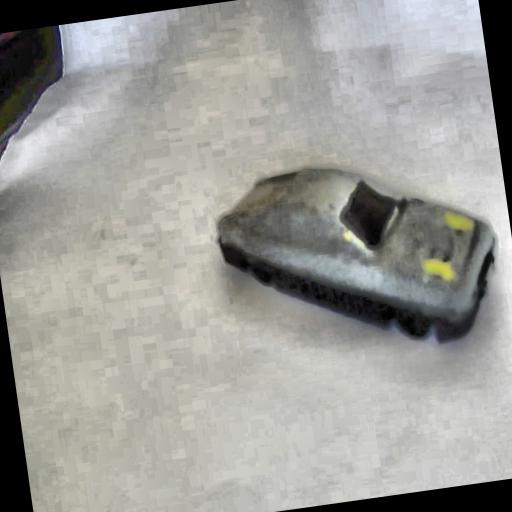normal_car: (206, 138, 512, 373)
